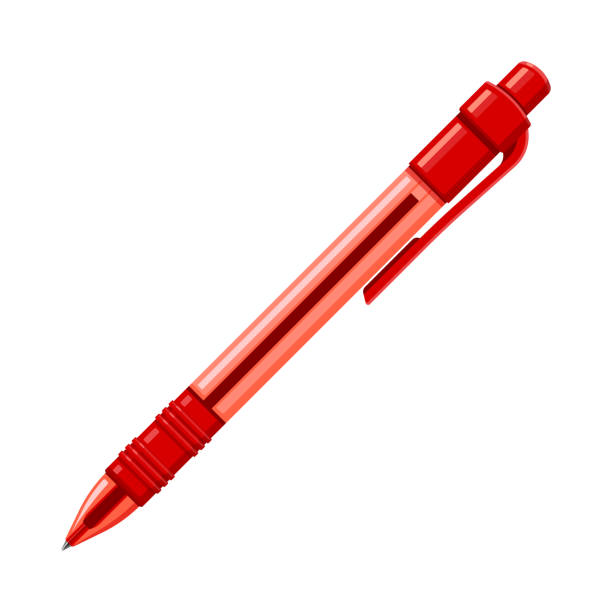pen: (54, 53, 559, 576)
